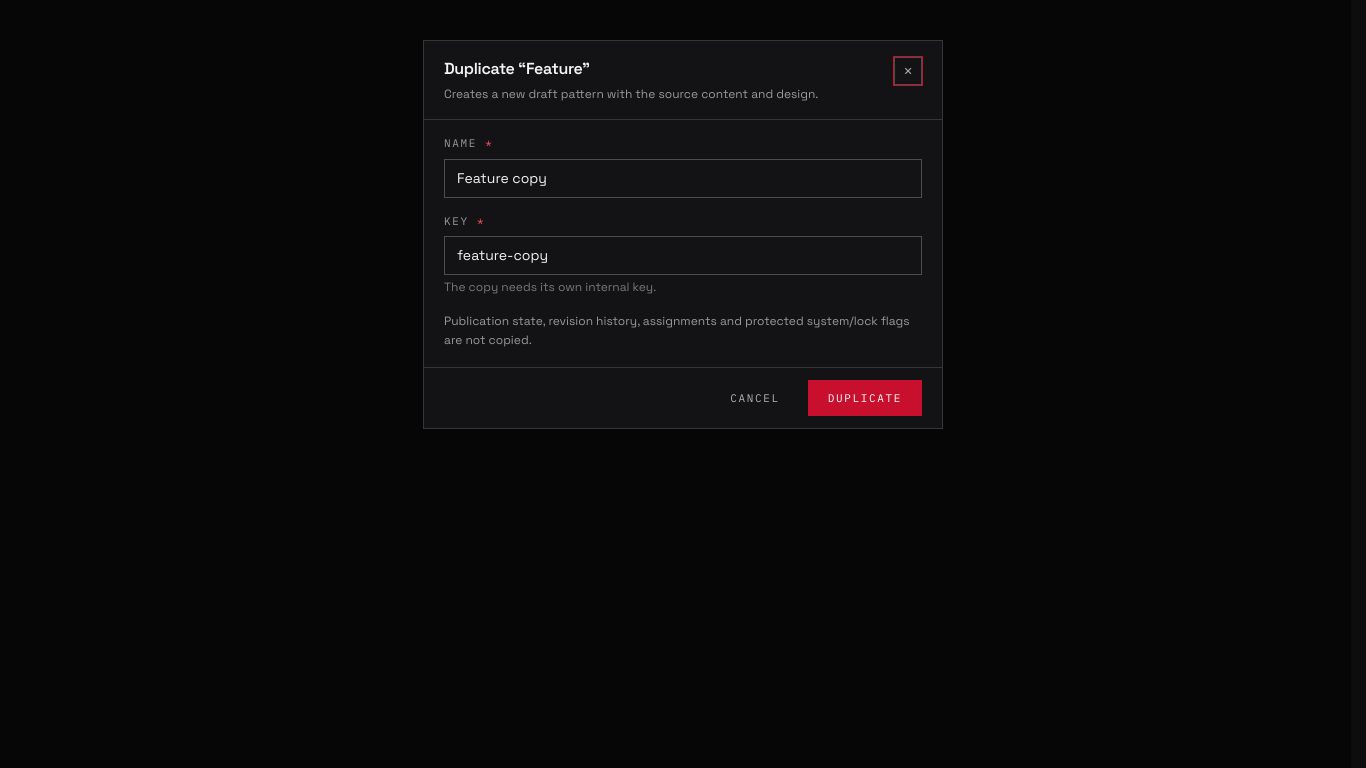
Test case: DuplicateDocumentDialog › keeps a uniqueness error in the dialog
Click the button "Duplicate" at (865, 398), box left=808, top=380, right=922, bottom=416
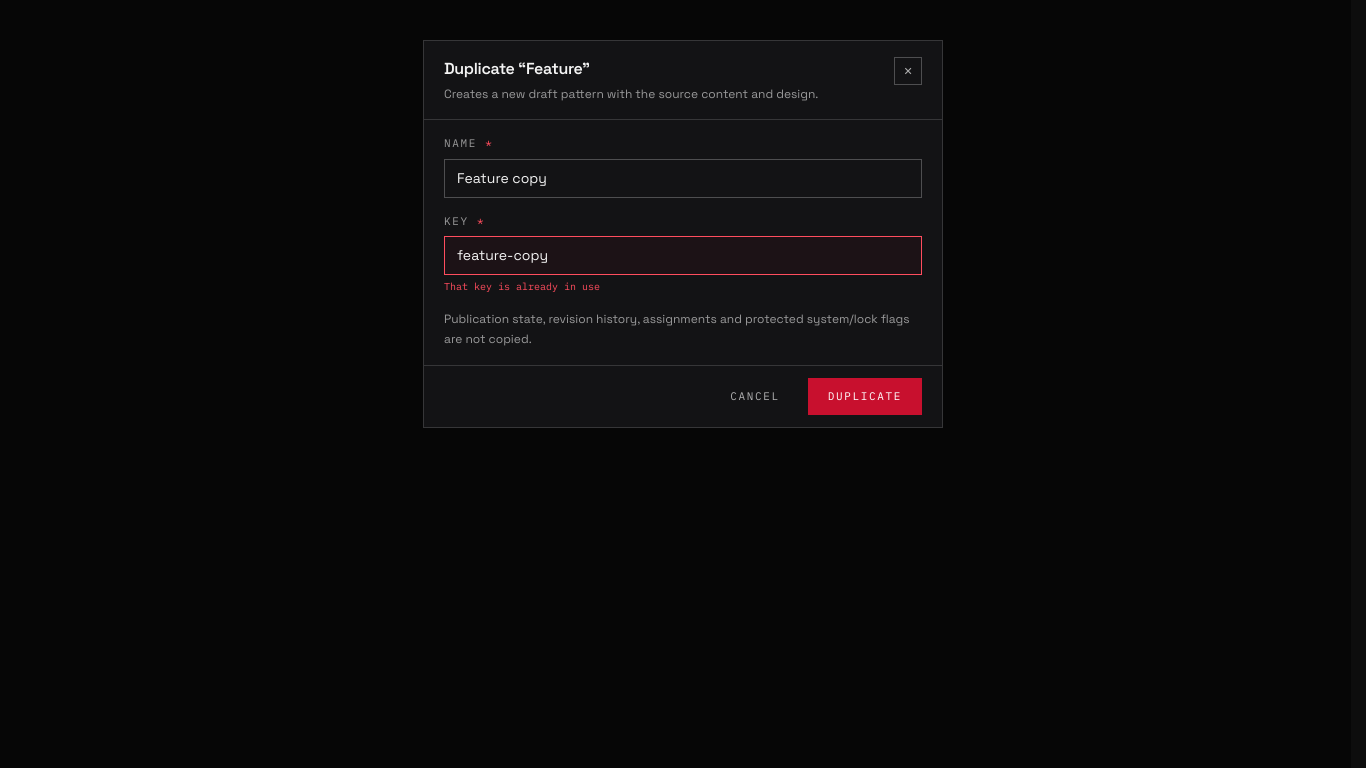
Expected: the text "That key is already in use" is shown, left=444, top=280, right=600, bottom=293
